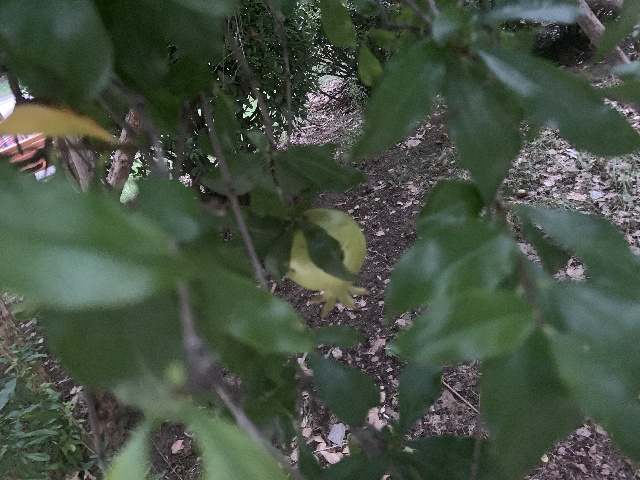mid-growth: (286, 209, 372, 317)
